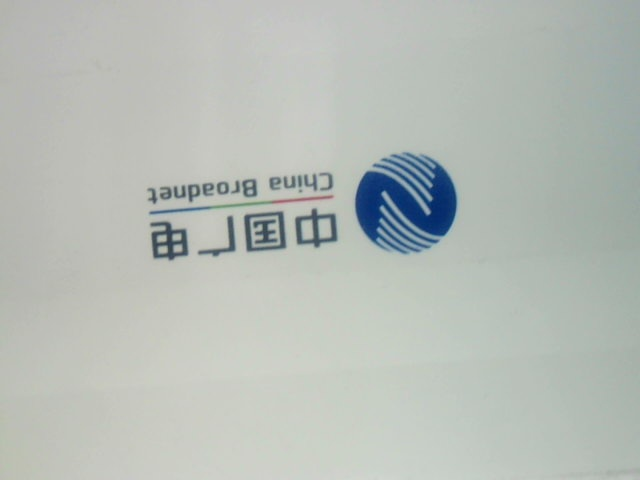AW_ChinaBroadNet: (131, 117, 463, 268)
